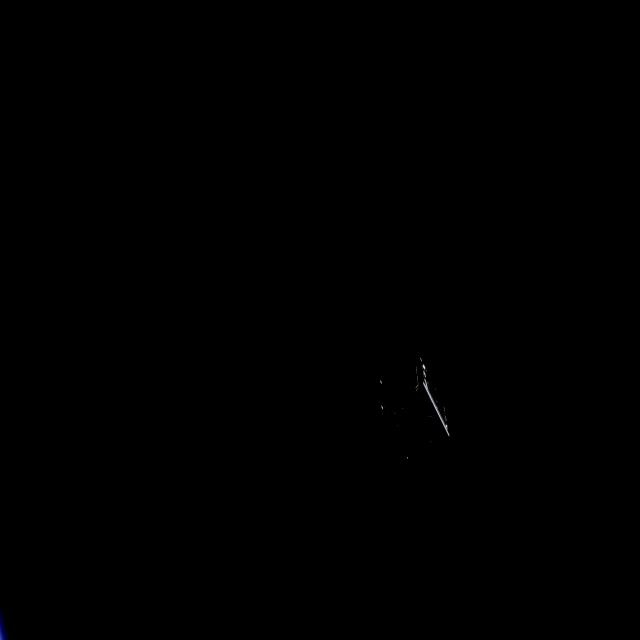satellite: (369, 352, 452, 464)
